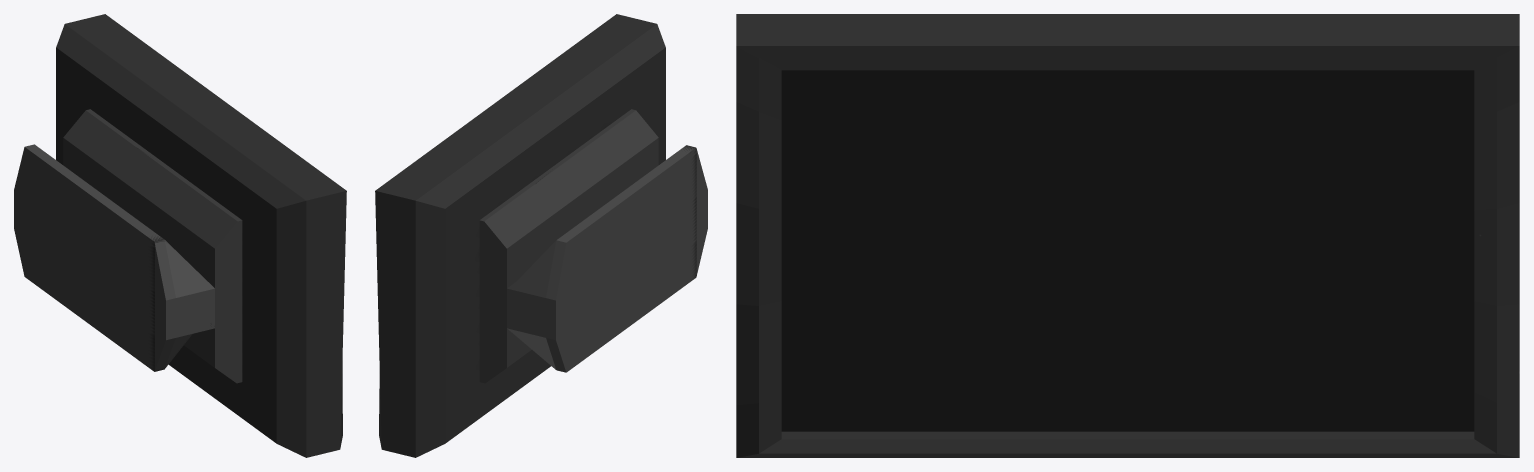
The model's file is Televisor_Low-Poly.fbx.
3 views of the same model, side by side, from view 1: azimuth 30°, elevation 25°; view 2: azimuth 150°, elevation 25°; view 3: azimuth 270°, elevation 25° (orthographic). The views are drawn at different scales.
Parts seen in each view (by area): view 1: Televisor; view 2: Televisor; view 3: Televisor.
Boxes of the visible parts, x1,y1,x2,y2 form: Televisor: [14, 14, 346, 457]; Televisor: [375, 14, 707, 457]; Televisor: [736, 14, 1519, 457].
Bounding box in the file's own units: 142 × 251 × 426.
